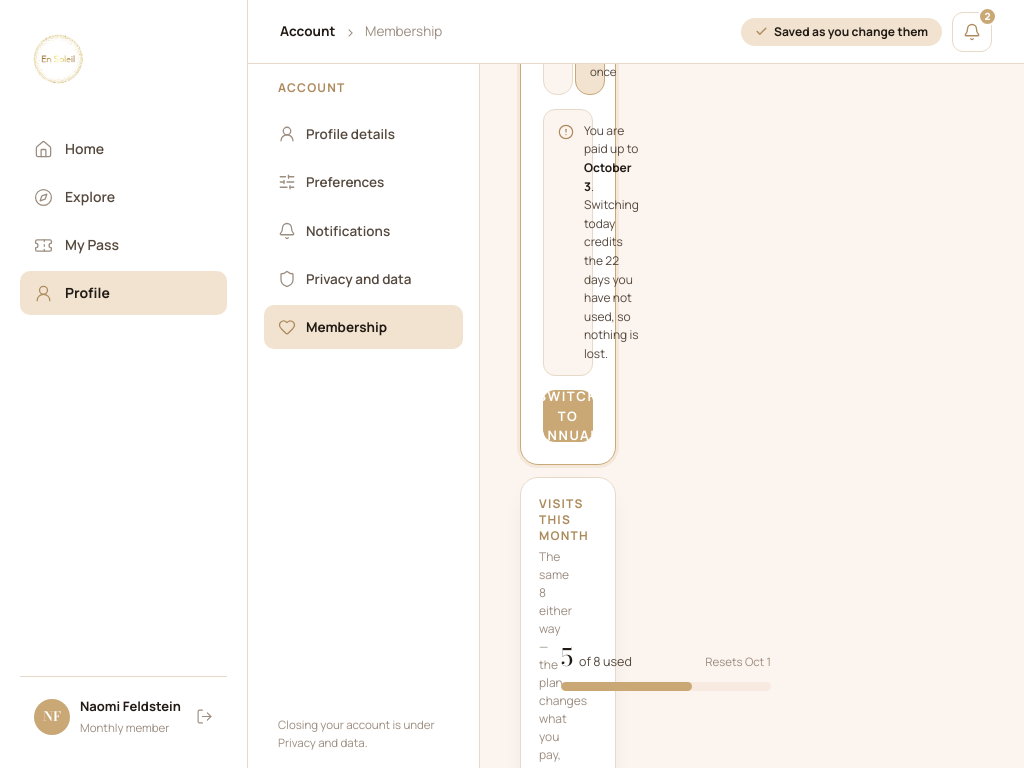
Scenario: suscriptor mensual (?plan=monthly) › al pulsar Switch to annual, abre el modal con el importe prorrateado
The width and height of the screenshot is (1024, 768).
(page scrolled)
Step 1. Click the button "Switch to annual" → {"x": 568, "y": 416}, box [543,390,593,442]
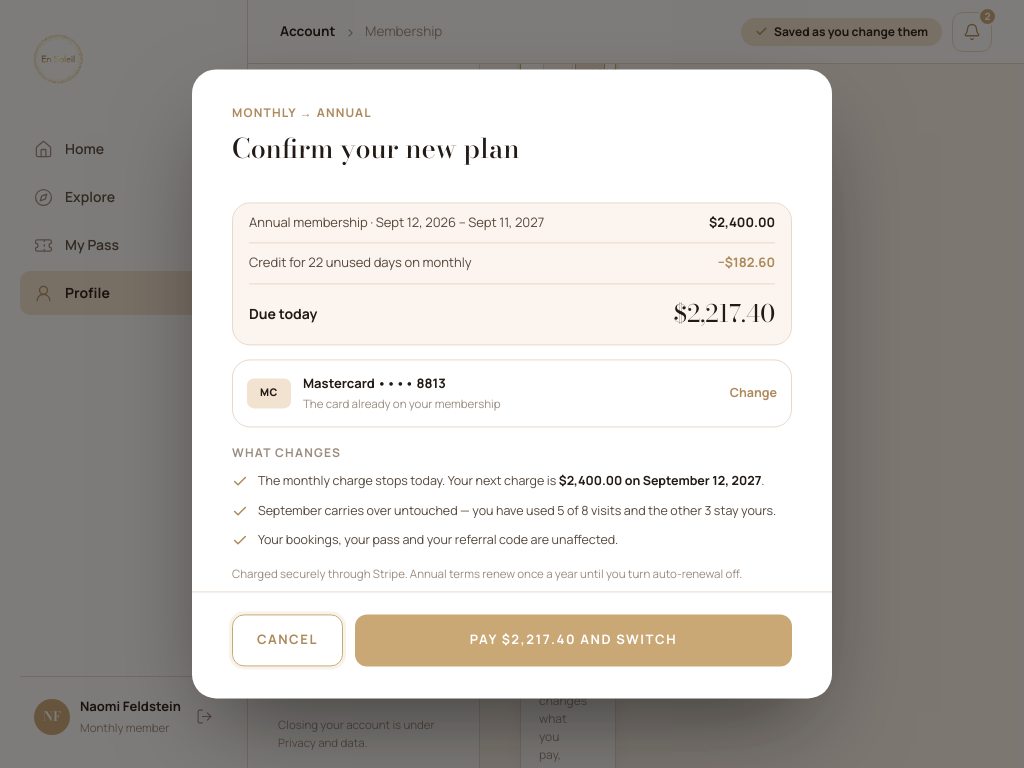
Result: the heading "Confirm your new plan" is shown at [232,128,520,169]
Result: the text "$2,217.40" is shown at [674,298,775,330]
